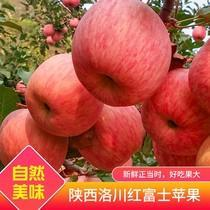apple: (70, 1, 173, 106), (24, 52, 104, 138), (143, 68, 209, 157), (73, 105, 145, 171), (1, 108, 67, 172), (188, 38, 210, 111), (191, 25, 206, 40)
